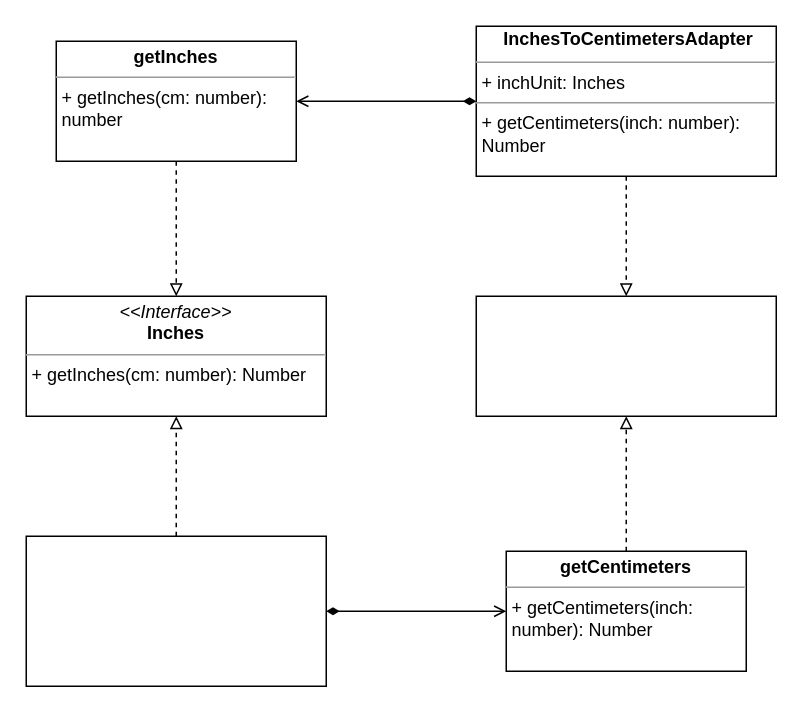
The diagram is 803 pixels wide and 713 high, and some of its shapes have lost their labels. The shapes that lost their labels are listed below. From the top down, each one's centre as x and y in pixels, then its label:
pixel 625 355: <<Interface>> Centimeters + get Centimeters (inch: number): Number
pixel 175 610: CentimetersToInchesAdapter + cmUnit: Inches + getInches(cm: number): number
